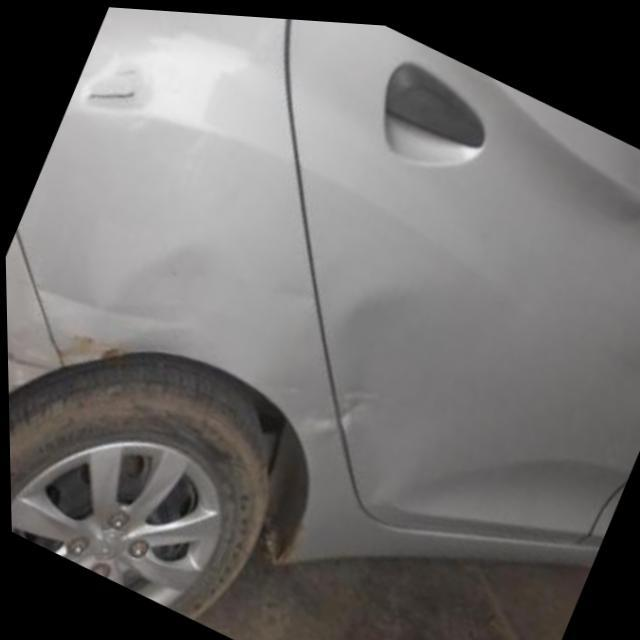dent: (272, 367, 388, 442)
scratch: (25, 265, 193, 343), (80, 62, 158, 117), (51, 324, 131, 366), (6, 334, 42, 378)
